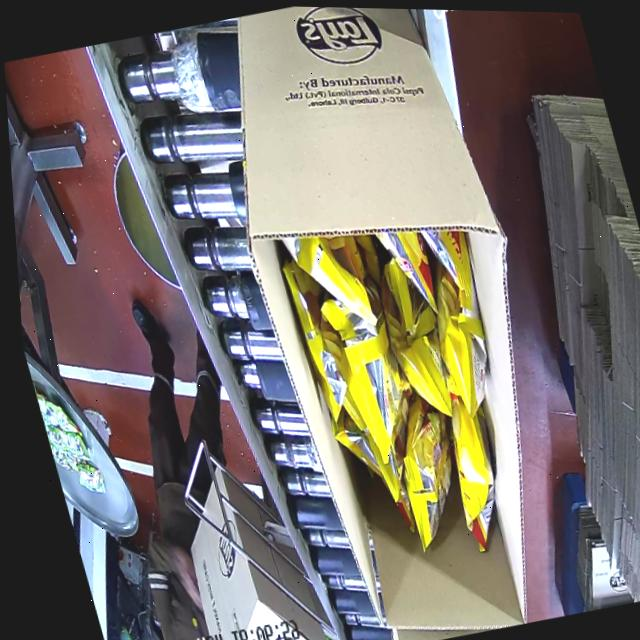SALTED: (269, 197, 554, 562)
